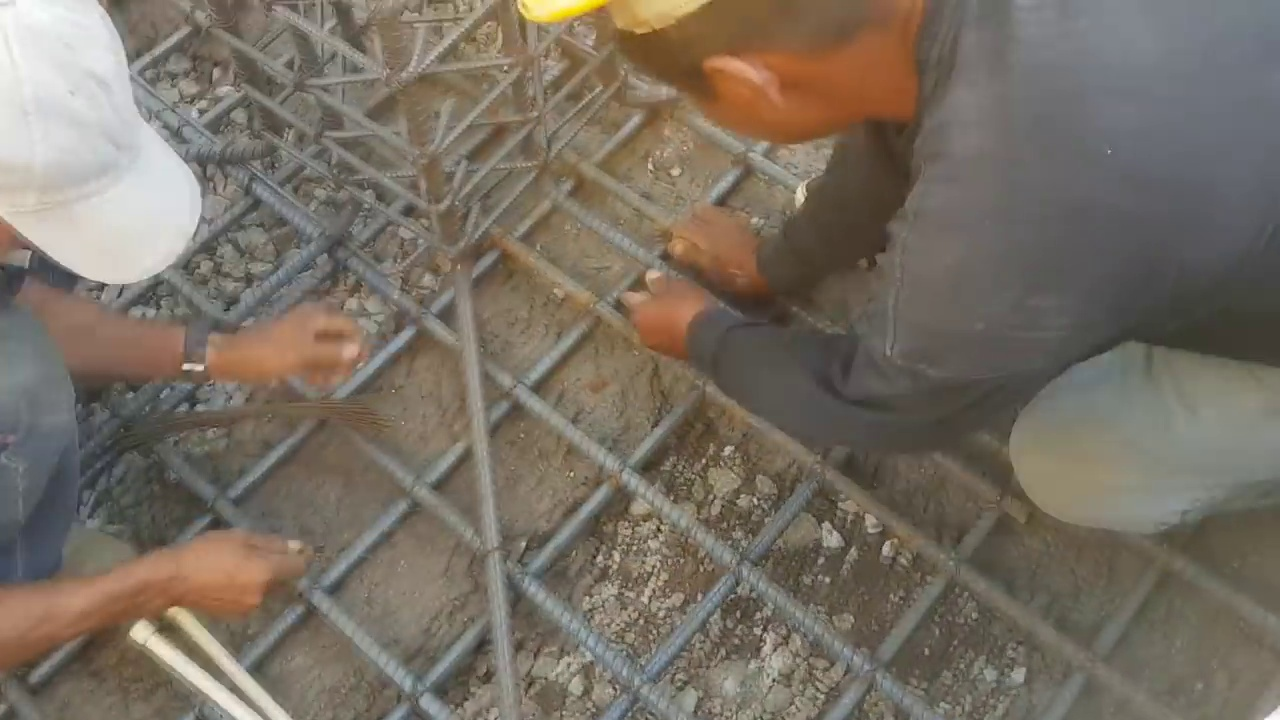helmet-off: (0, 5, 207, 286)
helmet-on: (512, 0, 944, 154)
person: (501, 0, 1280, 536), (0, 0, 365, 669)
